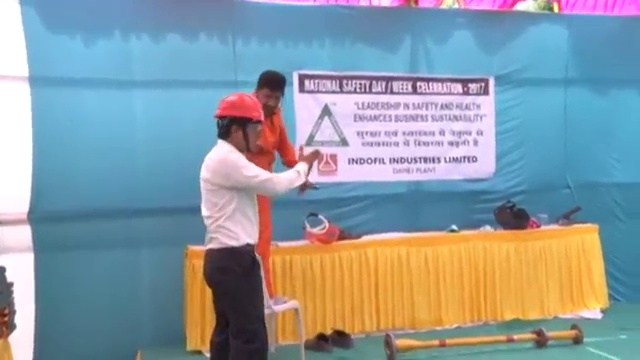helmet: (212, 91, 266, 122)
helmet_off: (255, 70, 288, 116)
helmet_on: (211, 92, 268, 154)
person: (199, 86, 324, 360), (250, 69, 314, 300)
